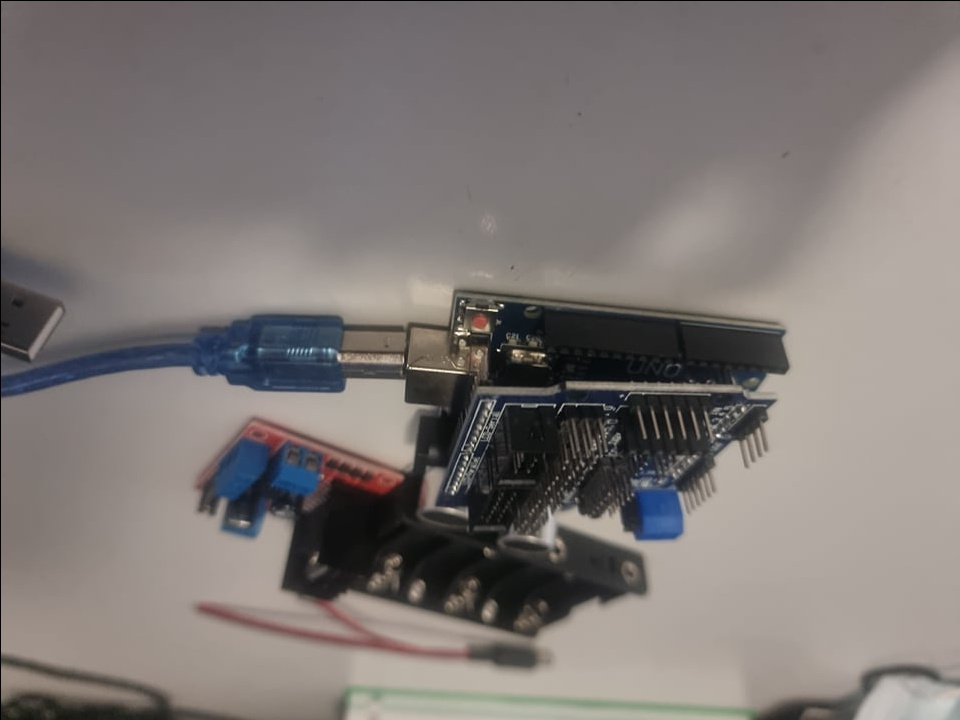5V EXPANSION: (441, 396, 780, 557)
BATTERY BOX: (372, 525, 657, 662)
MOTOR: (187, 417, 406, 611)
UNO R3: (389, 286, 789, 391)
